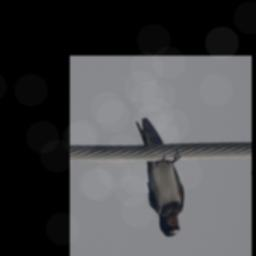Swallow: (135, 117, 184, 237)
